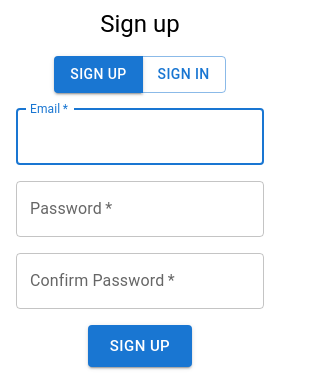
Test: <SignUp /> › sign In › Simulate an email error
This screenshot has width=320, height=387.
Click the button with id "signInModeButton".
click(184, 75)  # box [142,56,226,93]
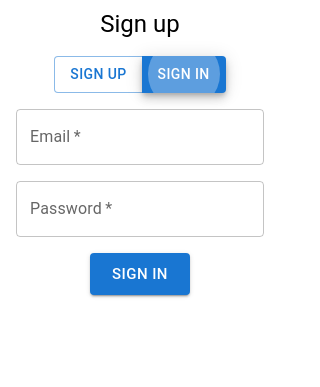
Type "aaaa" into the field named "email".
click(140, 137); type("aaaa")  # box [16,109,264,165]
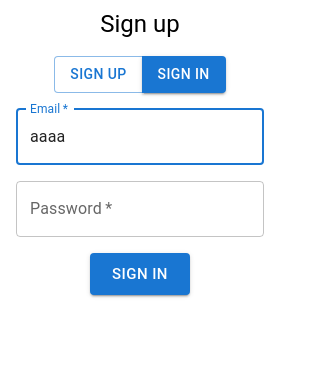
Type "password" into the password field named "password".
click(140, 209); type("password")  # box [16,181,264,237]
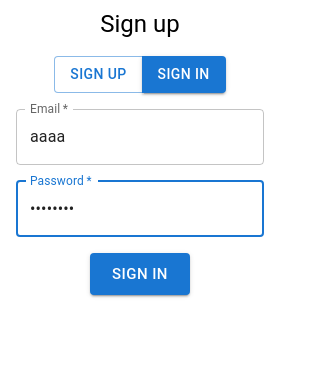
Click the submit button.
click(140, 274)  # box [90,253,190,295]
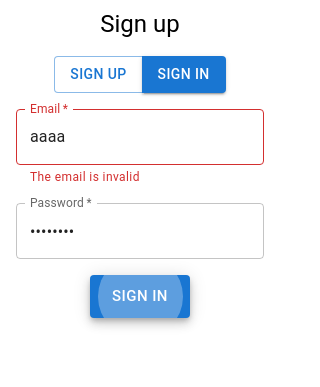
Check: the text "The email is invalid" is shown, box [30,170,140,184]
